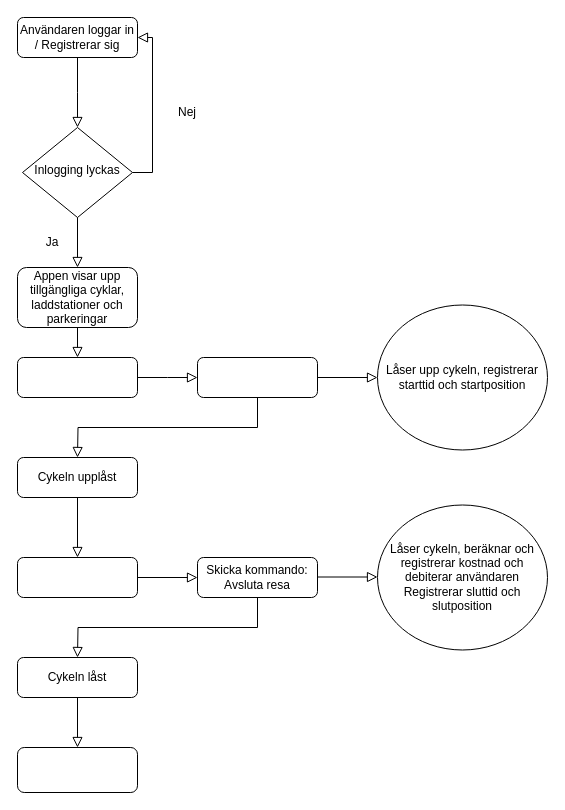
Image size: 565x810. Some labels were removed from this diagram. The shapes that lost their labels are listed below. From the top down, each one's centre as x and y in pixels, then its label:
At [77,377]: "Användaren väljer en cykel".
At [257,377]: "Skicka kommando: Påbörja resa".
At [77,577]: "Användaren återlämnar cykeln".
At [77,769]: "Visa detaljer om resan".
